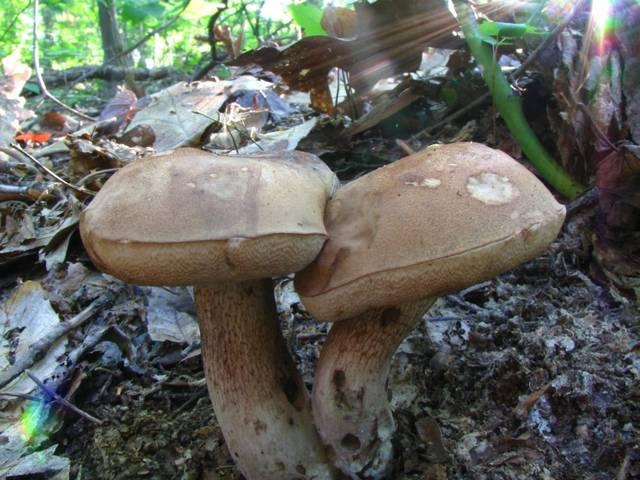Non-edible Mushroom: (293, 139, 567, 479), (77, 145, 340, 479)
